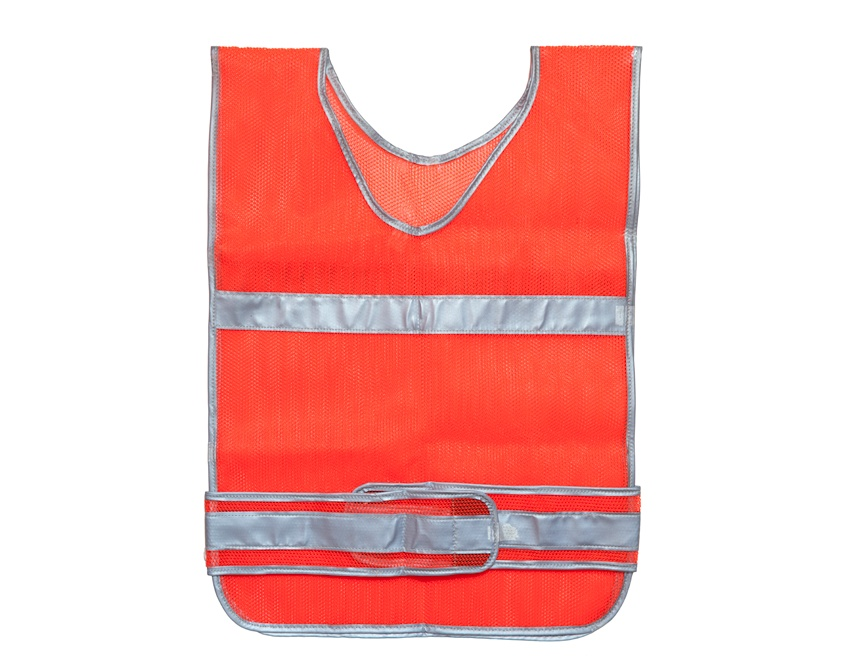safety vest: (202, 46, 638, 635)
